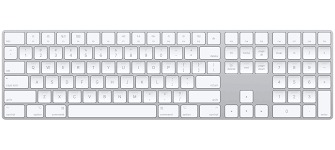keyboard: (3, 13, 331, 150)
